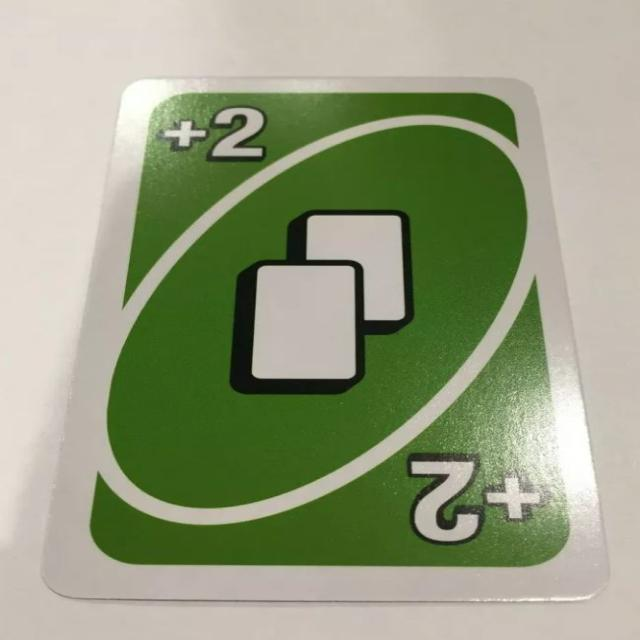Draw_Two: (151, 101, 275, 170)
Green_Card: (85, 84, 581, 576)
